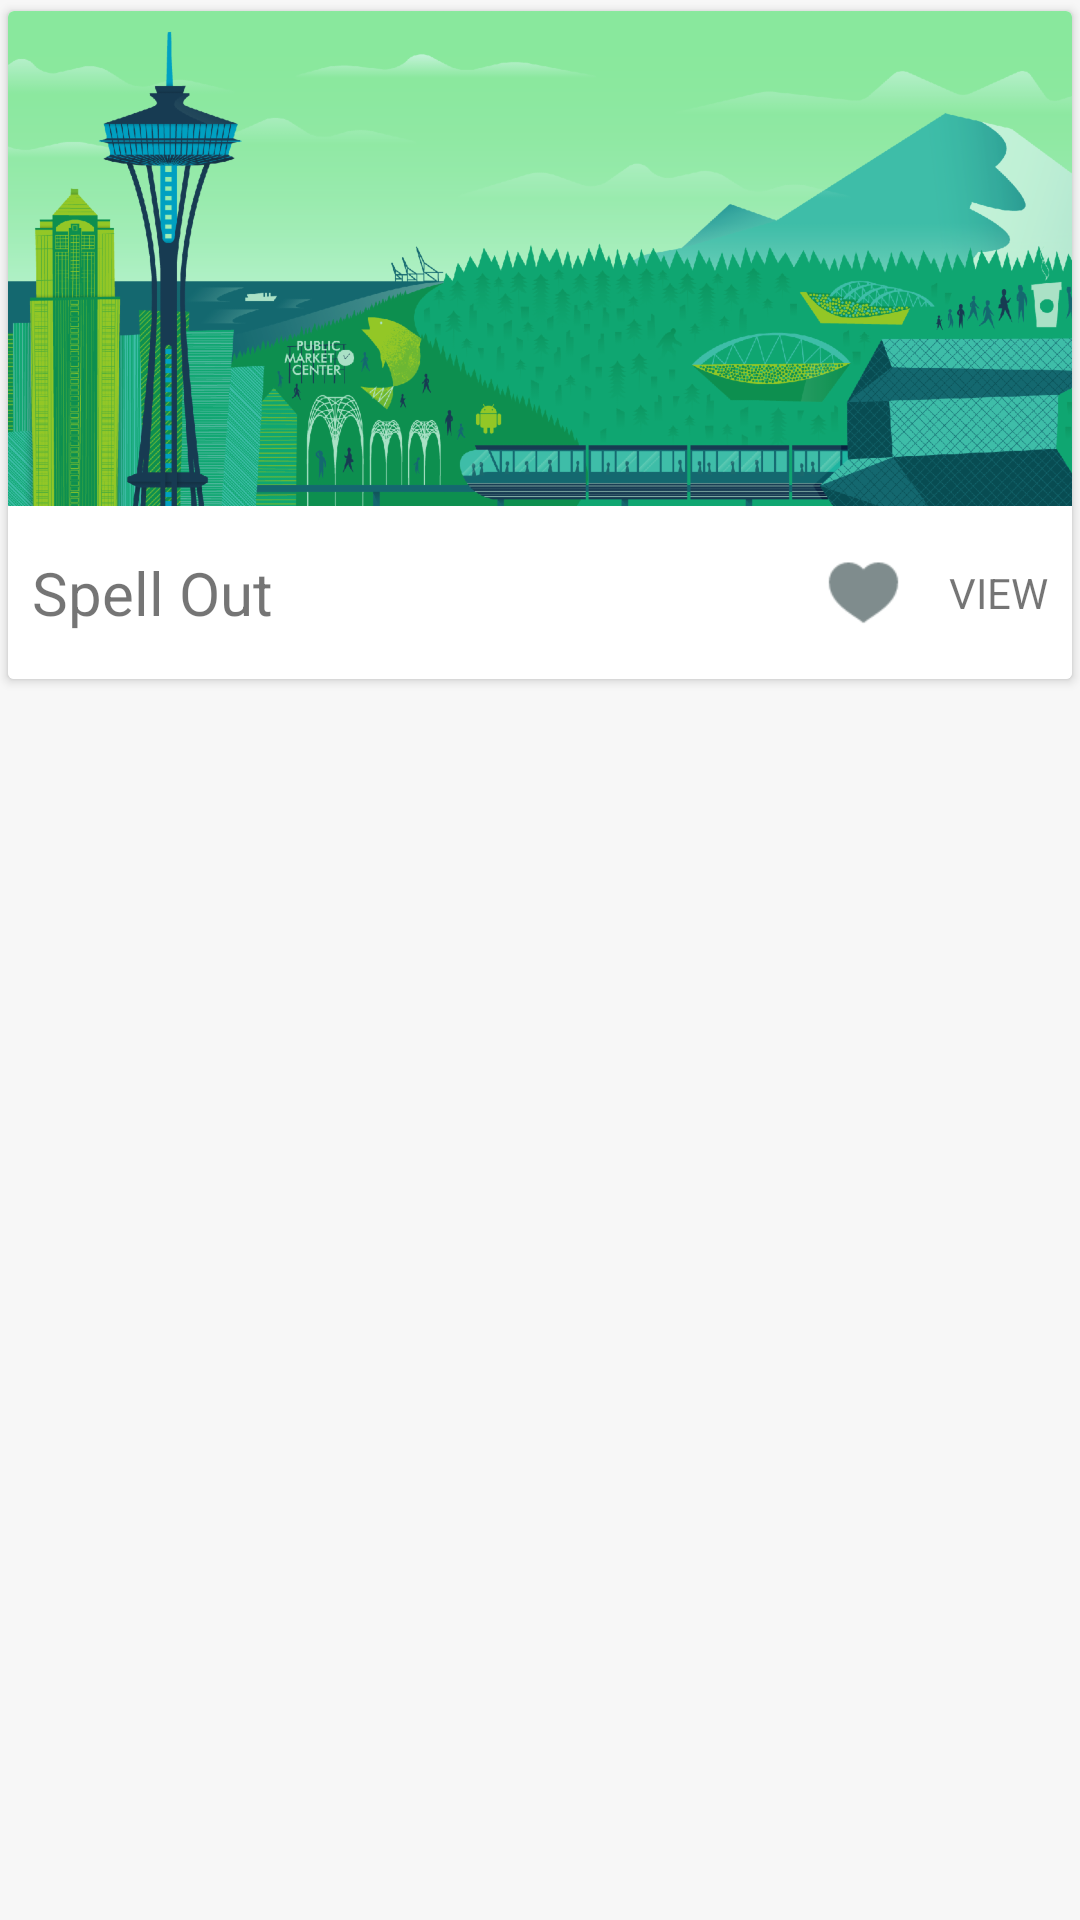

Named icons in this screenshot (1080px×1920px) and their bounding boxes, (x1, y1, x2, y2):
like: (829, 562, 898, 623)
